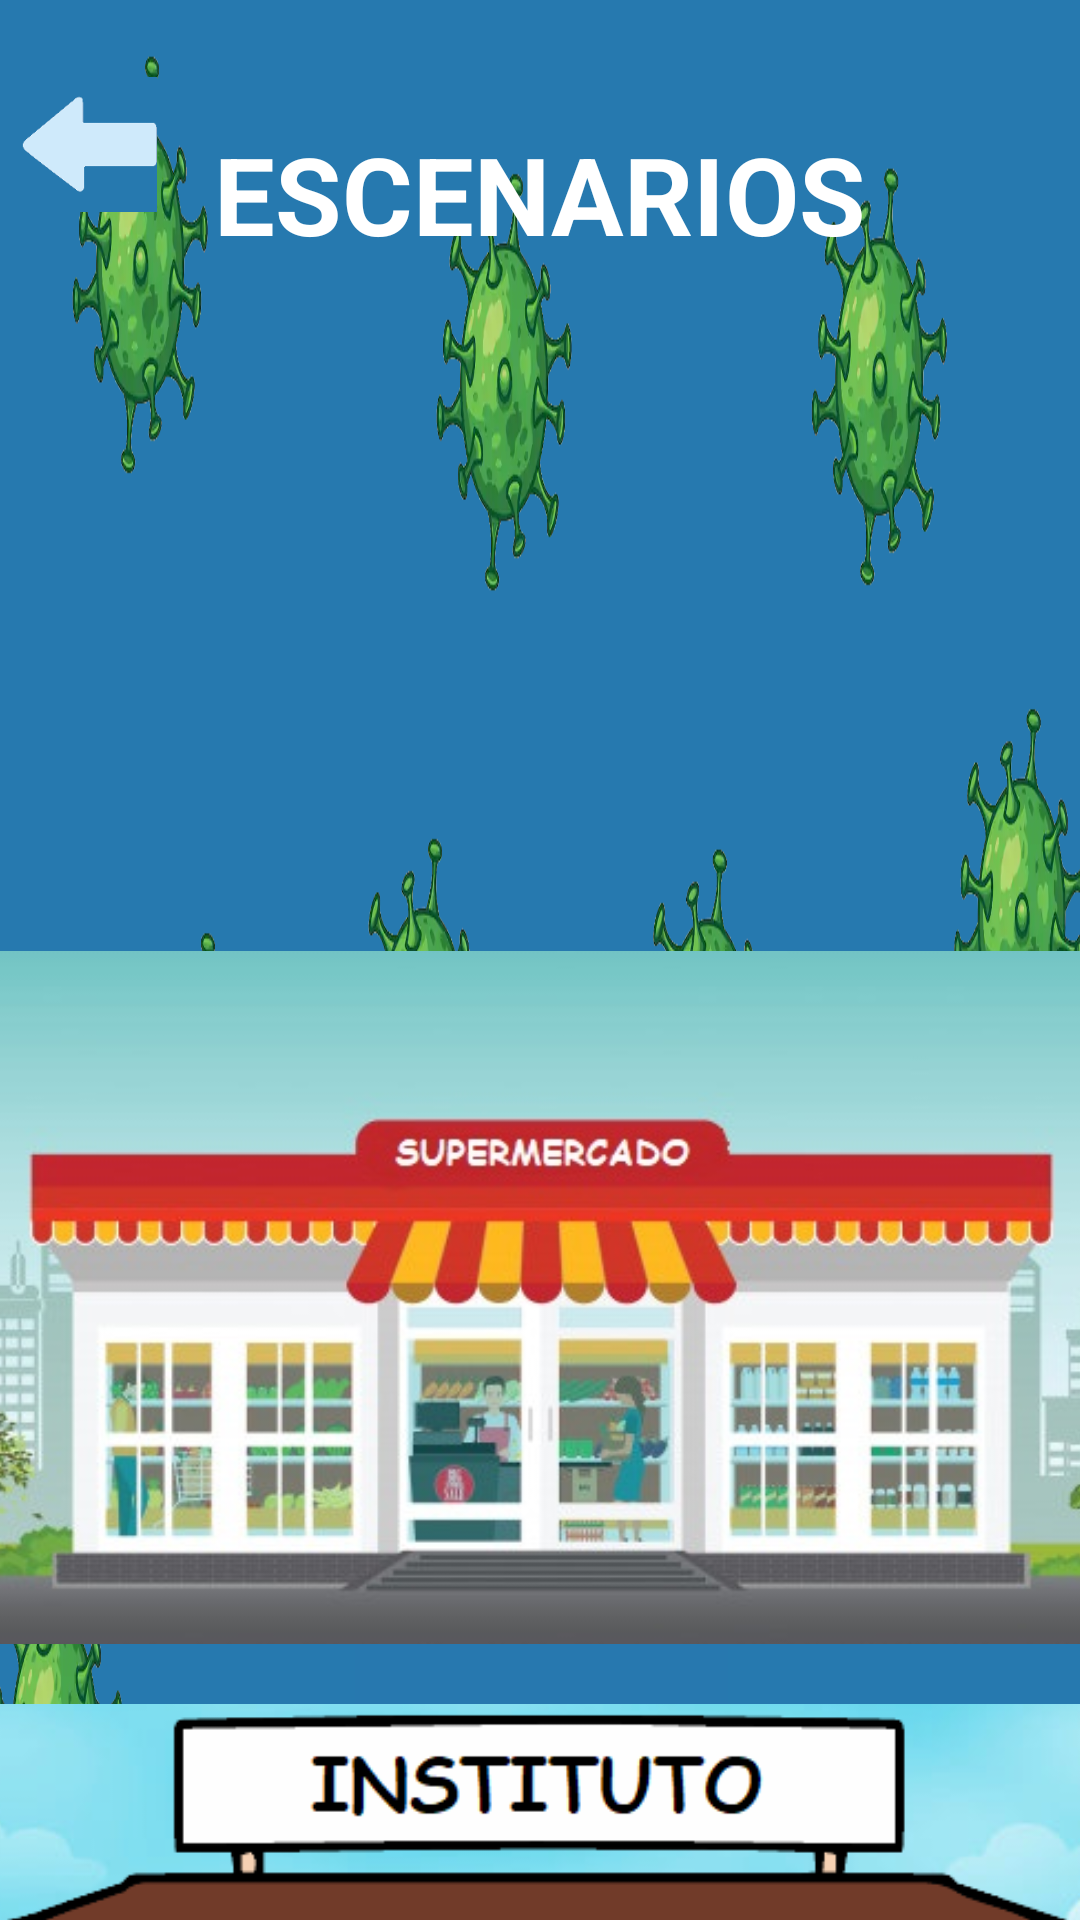

Named icons in this screenshot (1080px×1920px) and their bounding boxes, bbox=[x1, y1, x2, y2]:
flecha volver atras: bbox=[23, 97, 157, 192]
